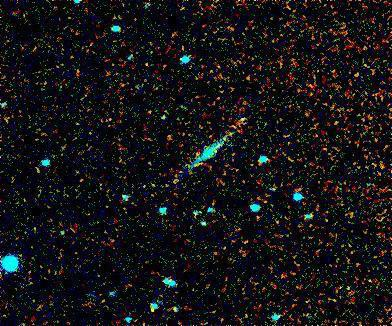star: (231, 102, 261, 132)
